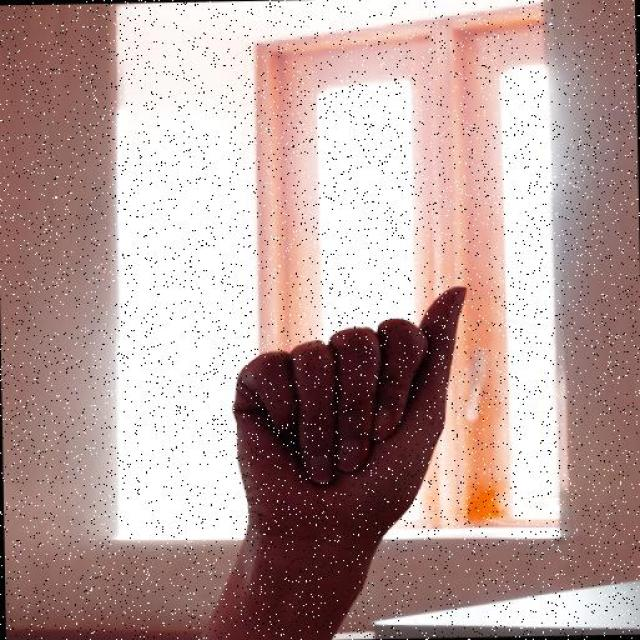A: (210, 279, 487, 576)
